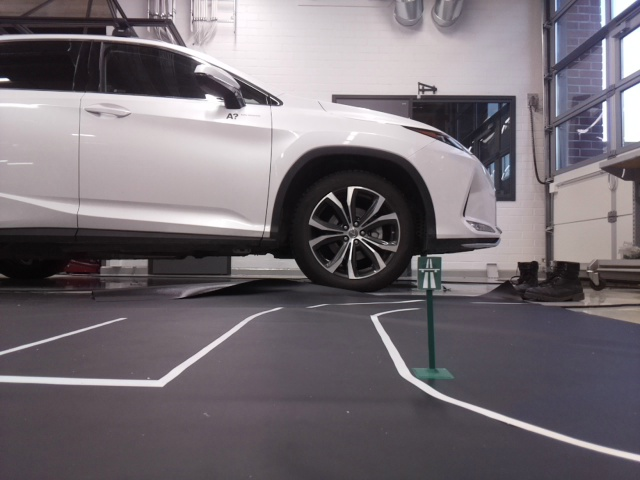HighwayEntrance: (420, 258, 441, 286)
